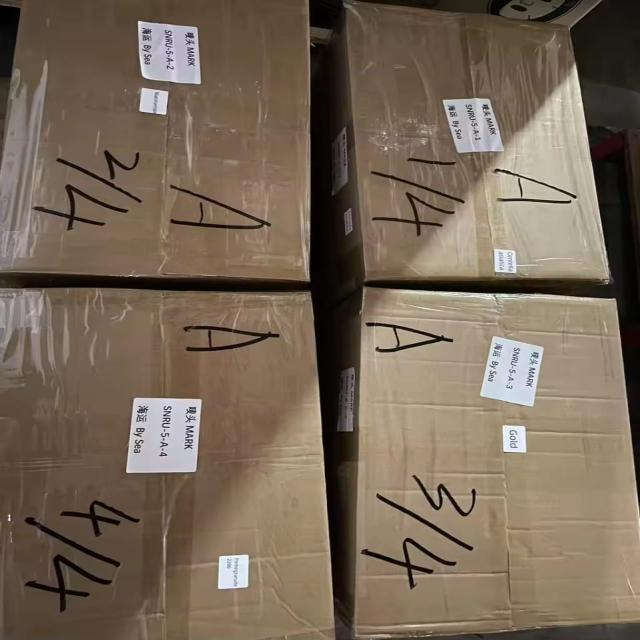carton_box: (2, 281, 344, 636), (328, 276, 640, 639), (3, 0, 320, 290), (327, 0, 623, 296)
export_mark_label: (115, 389, 211, 484), (130, 13, 222, 96), (474, 325, 552, 414), (427, 88, 515, 165)
